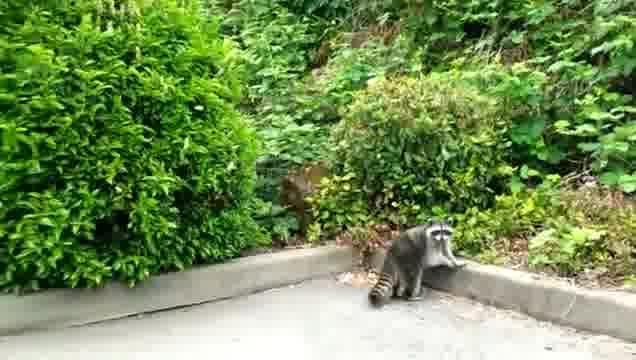raccoon: (367, 216, 469, 308)
